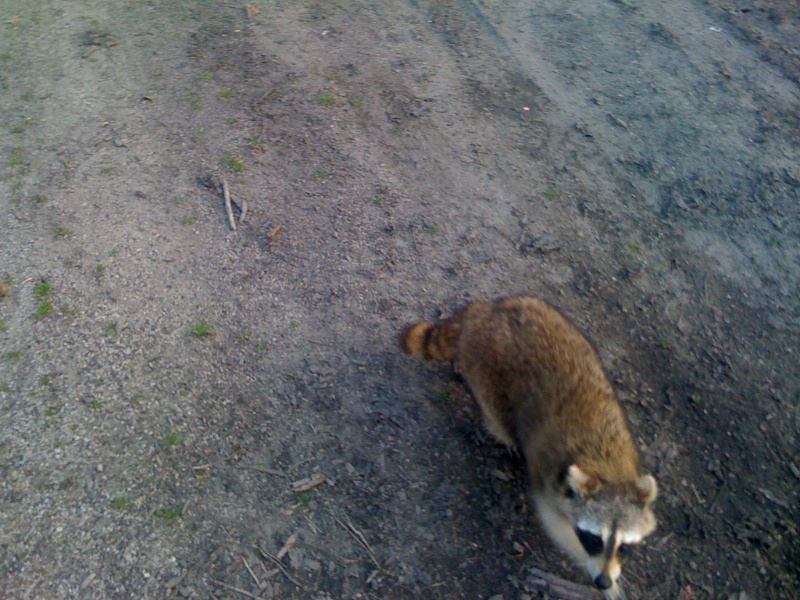raccoon: (393, 290, 664, 588)
